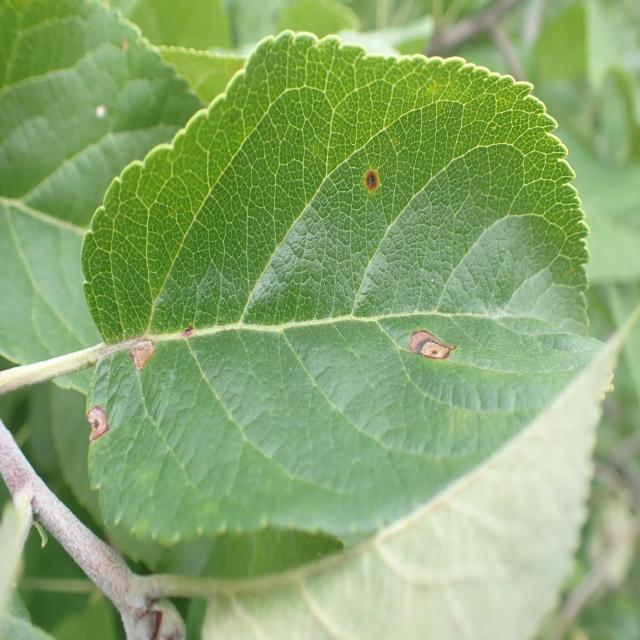Black Rot: (402, 319, 469, 369), (127, 324, 161, 377), (84, 391, 110, 452), (362, 168, 380, 194)
